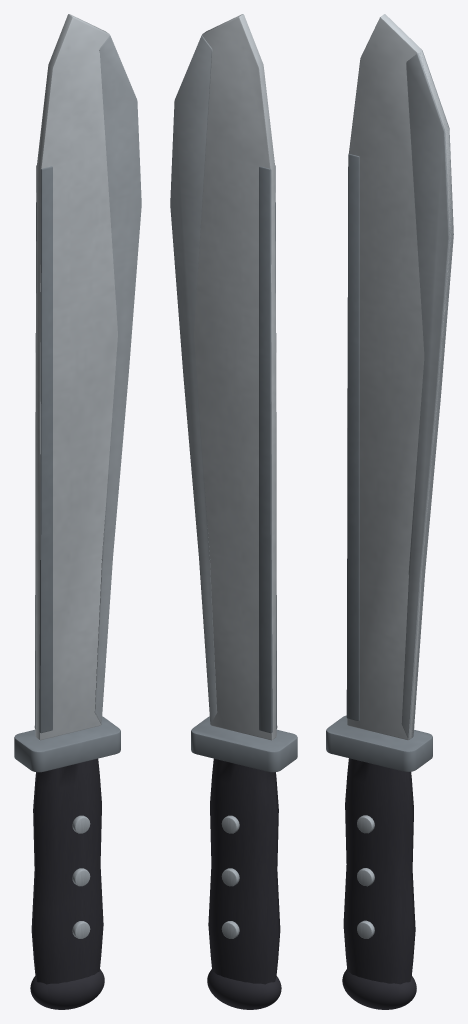
Rendered from machete.gltf.
3 renders of one model, left to right at view 1: azimuth 30°, elevation 25°; view 2: azimuth 150°, elevation 25°; view 3: azimuth 330°, elevation 25°, orthographic.
Visible parts, largest first — view 1: machete; view 2: machete; view 3: machete.
Boxes of the visible parts, x1,y1,x2,y2 form: machete: (14, 14, 141, 1009); machete: (170, 14, 297, 1009); machete: (326, 14, 453, 1009).
Bounding box in the file's own units: 0.081 × 0.6581 × 0.037.
4 materials, 4 textured.
